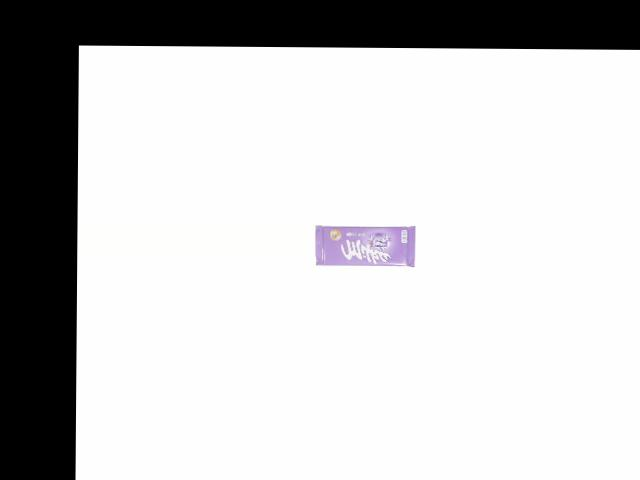chocolate: (314, 220, 421, 269)
